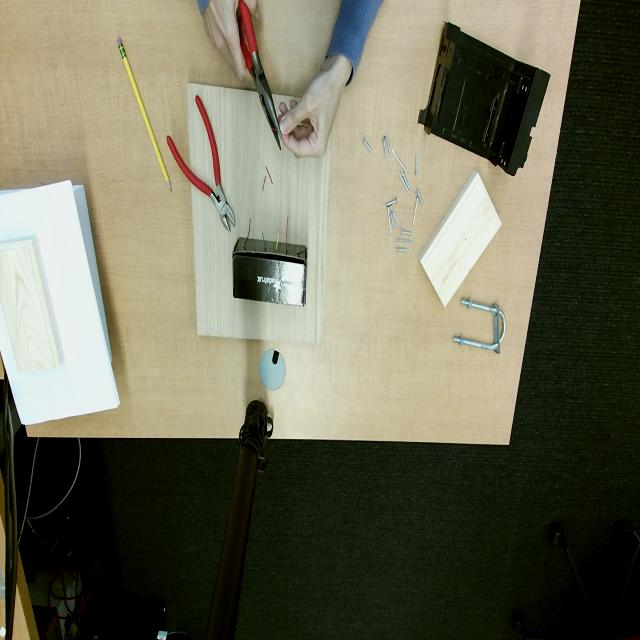pliers: (166, 96, 235, 230), (233, 0, 282, 151)
